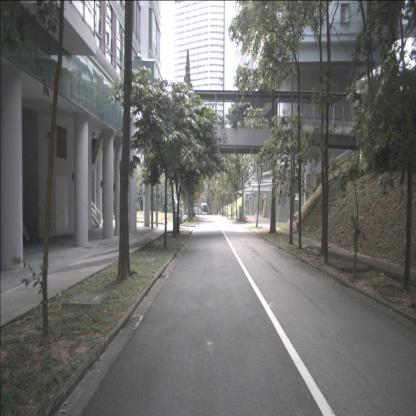vehicle-bus-rigid: (201, 202, 208, 216)
vehicle-car: (186, 208, 196, 216)
